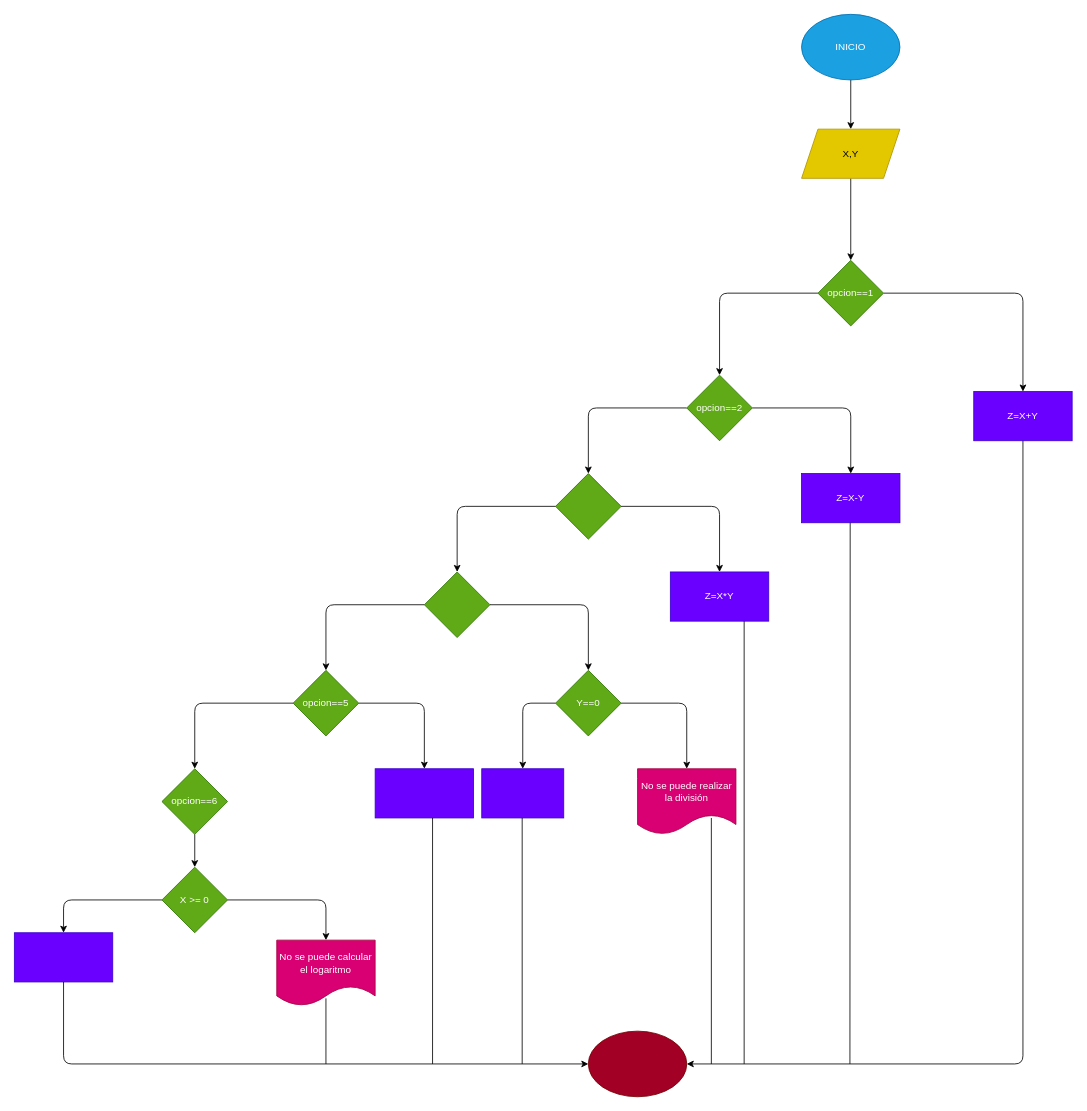
Some shapes in this 1087 by 1111 pixel diagram are drawn without their labels. Each missing label, with the centre of its shape:
FIN: the point at 637,1063
opcion==3: the point at 588,506
opcion==4: the point at 457,604
Z =log(X): the point at 63,957
Z=X/Y: the point at 522,793
Z=X^Y: the point at 424,793
